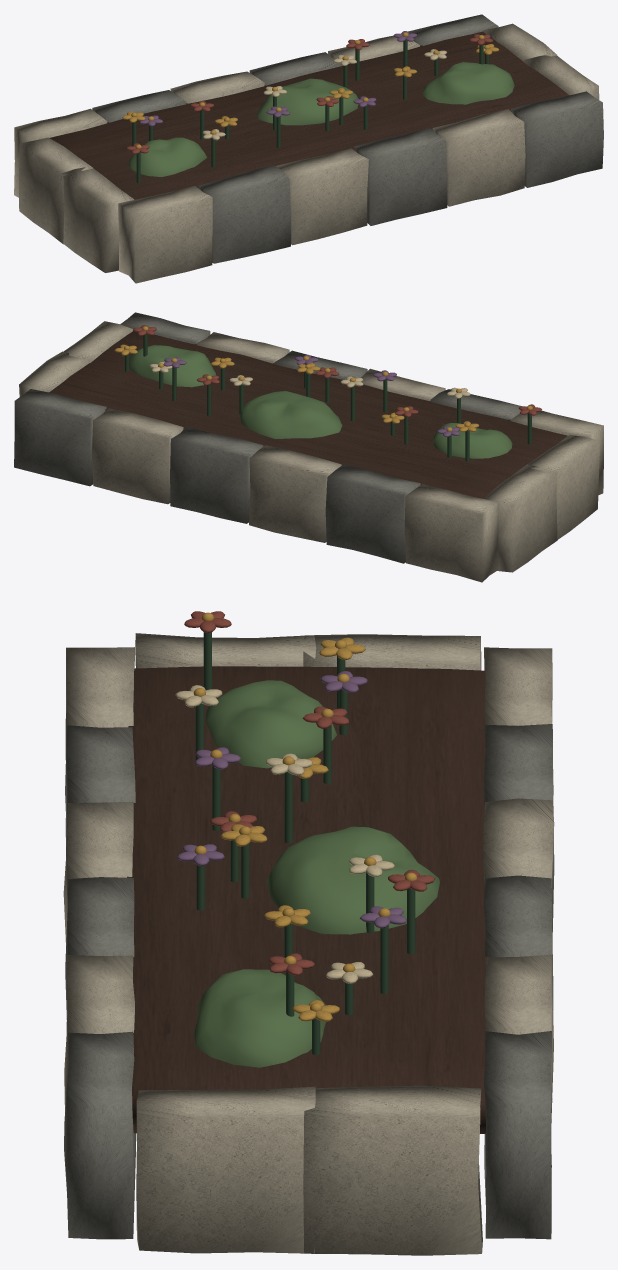
Rendered from flower_bed.glb.
The picture shows the model from 3 angles, top to bottom: view 1: azimuth 30°, elevation 25°; view 2: azimuth 150°, elevation 25°; view 3: azimuth 270°, elevation 25°; orthographic projection. The views are drawn at different scales.
Visible parts, largest first — view 1: flower_bed; view 2: flower_bed; view 3: flower_bed.
Part boxes in pixels (box(x1,y1,x2,y2)): flower_bed: box(14, 14, 603, 283); flower_bed: box(14, 312, 603, 582); flower_bed: box(63, 611, 554, 1255).
Bounding box in the file's own units: 2.8 × 0.6 × 1.2.
1 material, 1 textured.
